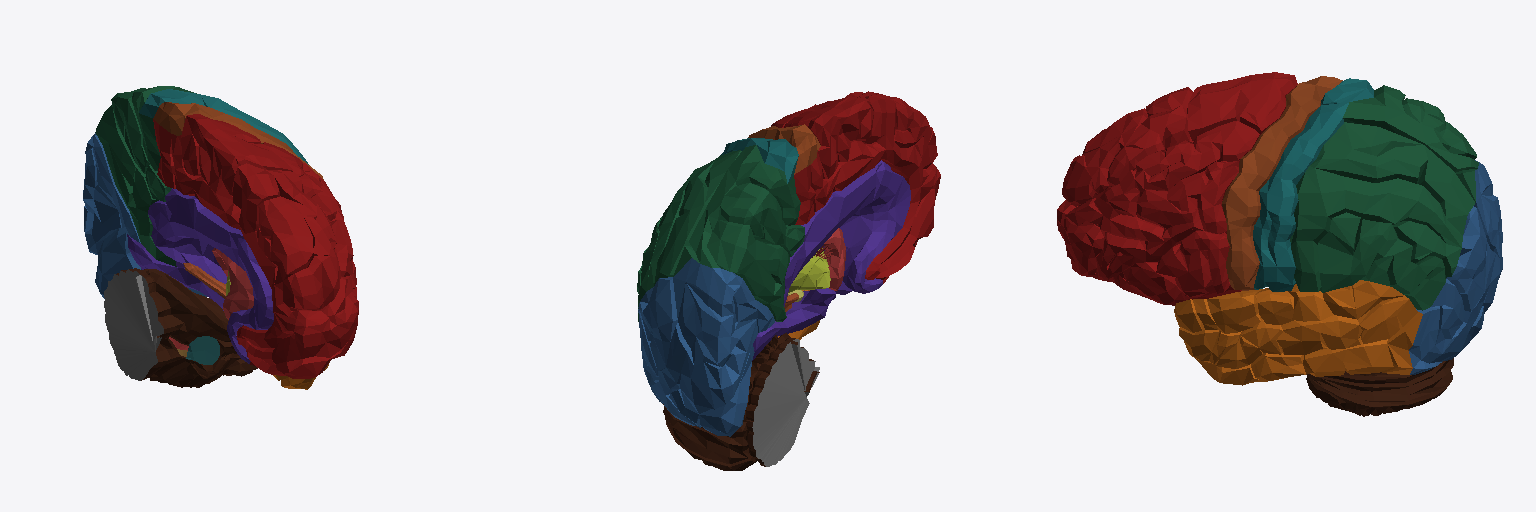
File: leftSide_brainSplit.obj
The picture shows the model from 3 angles: view 1: azimuth 30°, elevation 25°; view 2: azimuth 150°, elevation 25°; view 3: azimuth 270°, elevation 25°; orthographic projection.
Parts seen in each view (by area): view 1: LeftSide; view 2: LeftSide; view 3: LeftSide.
Boxes of the visible parts, box(x1,y1,x2,y2) form: LeftSide: box(83, 86, 358, 389); LeftSide: box(637, 91, 940, 470); LeftSide: box(1057, 72, 1502, 416).
Size of the model in its own units: 0.0583 by 0.1132 by 0.1496.